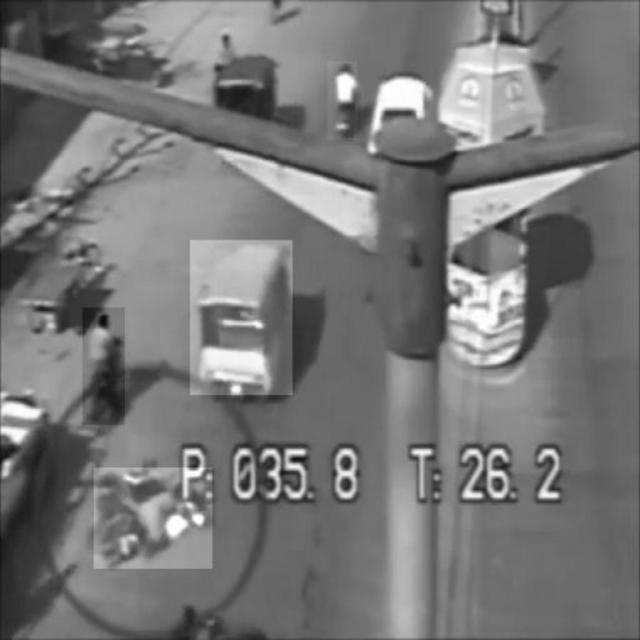accident: (94, 468, 212, 569)
vehicle: (190, 239, 292, 395), (84, 307, 126, 425), (328, 62, 358, 140)
